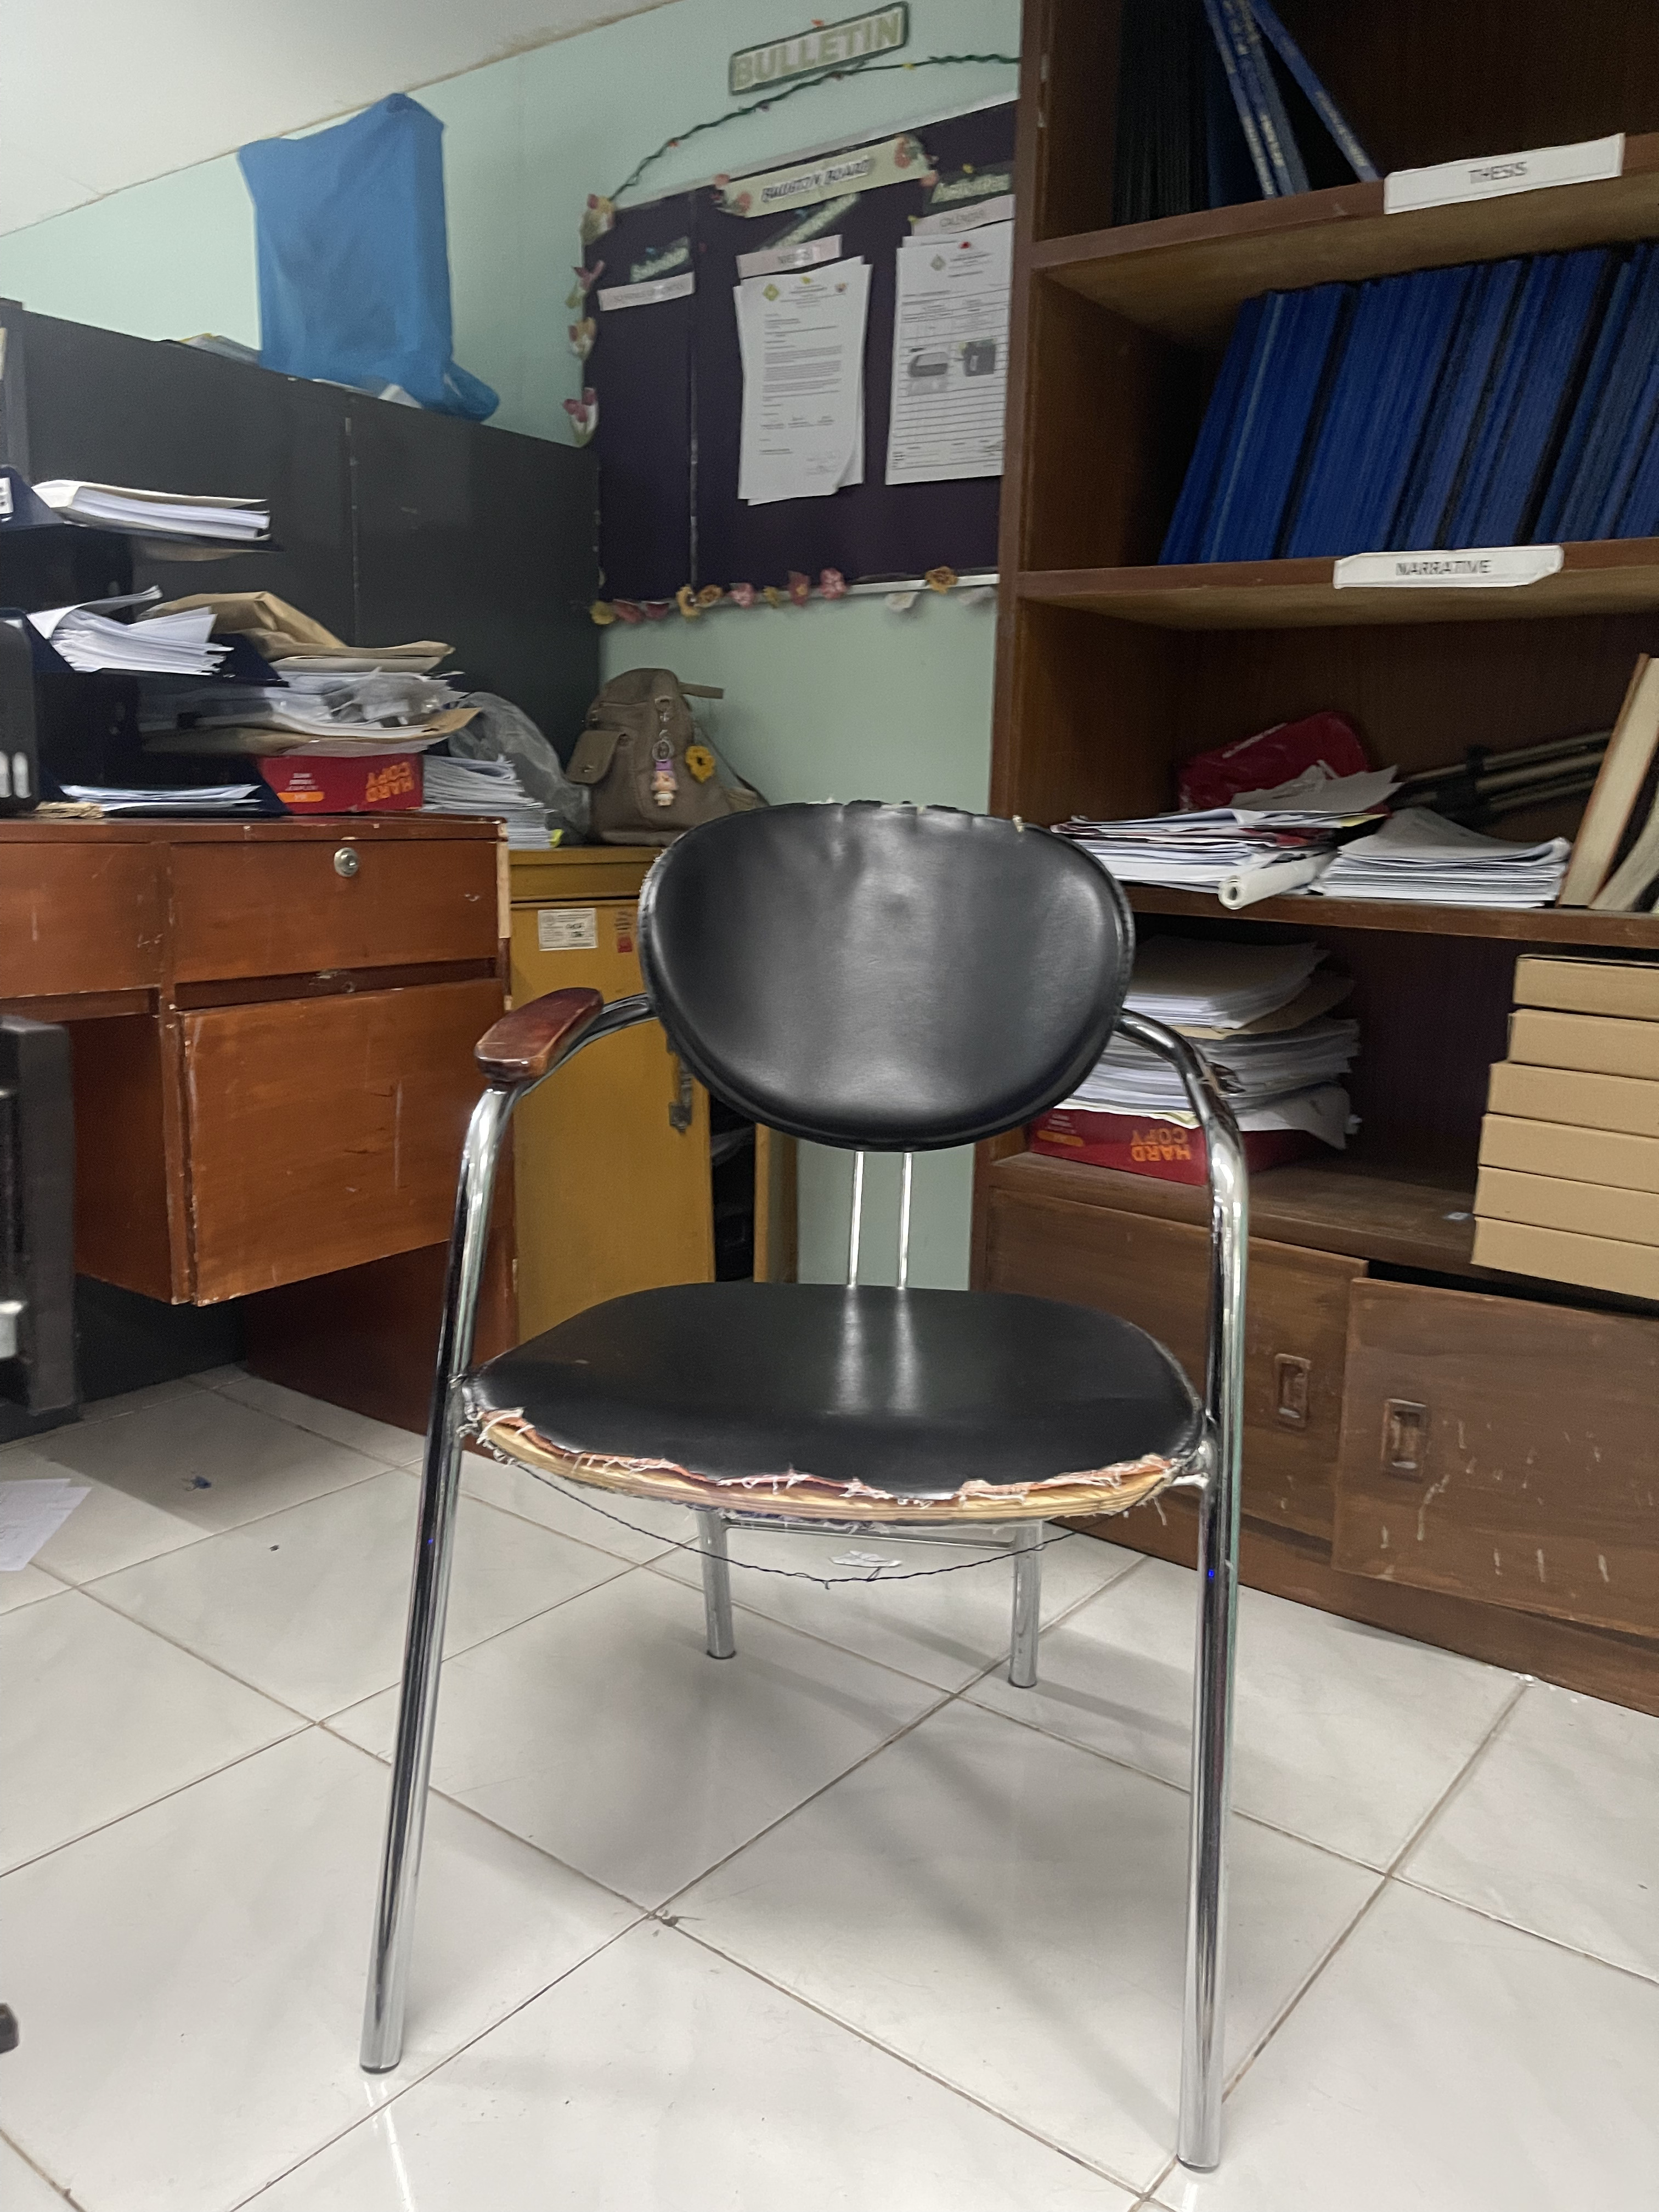chair1: (357, 792, 1256, 2179)
